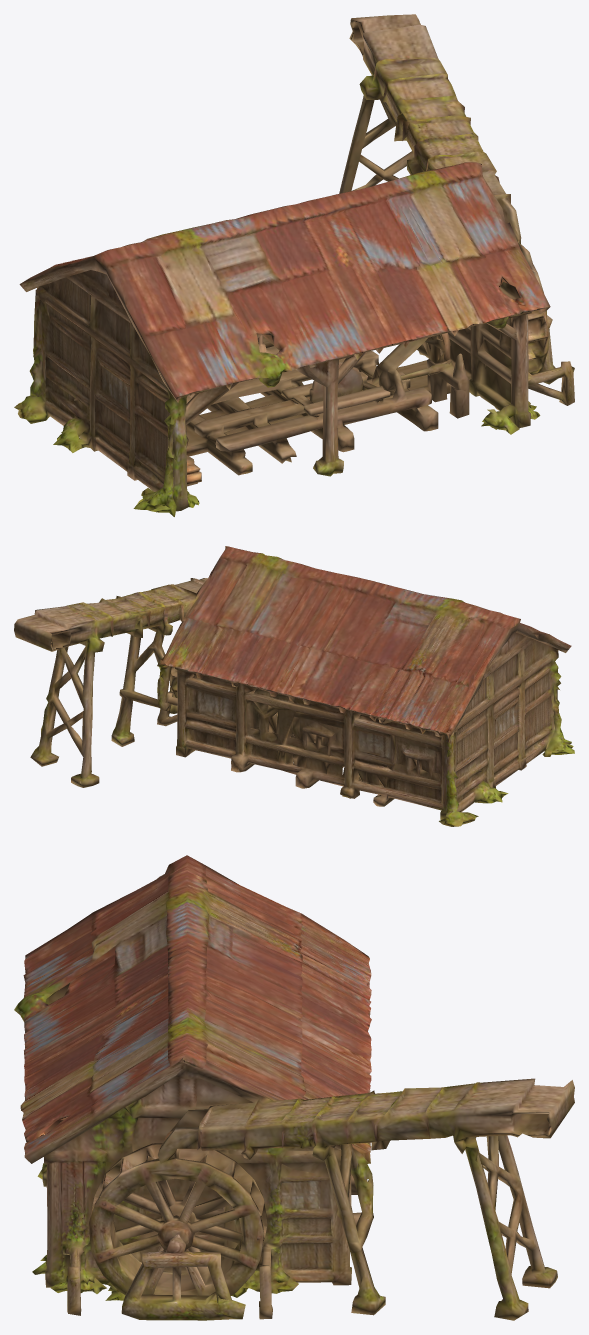
The model's file is sawmill.glb.
3 renders of one model, top to bottom at view 1: azimuth 30°, elevation 25°; view 2: azimuth 150°, elevation 25°; view 3: azimuth 270°, elevation 25°, orthographic. The views are drawn at different scales.
Parts seen in each view (by area): view 1: wooden watermill 3d model; view 2: wooden watermill 3d model; view 3: wooden watermill 3d model.
Boxes of the visible parts, x1,y1,x2,y2 form: wooden watermill 3d model: (14, 14, 574, 516); wooden watermill 3d model: (14, 546, 574, 826); wooden watermill 3d model: (14, 855, 574, 1320).
Size of the model in its own units: 10.85 by 4.5 by 9.47.
1 material, 1 textured.
